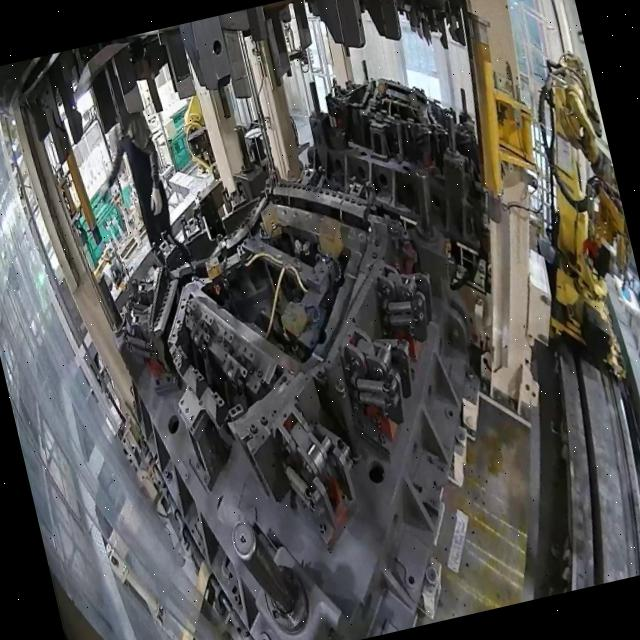Person: (83, 106, 179, 262)
